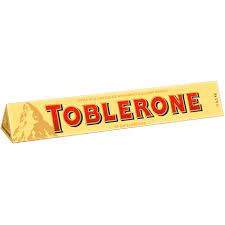Chocolate: (2, 72, 225, 147)
